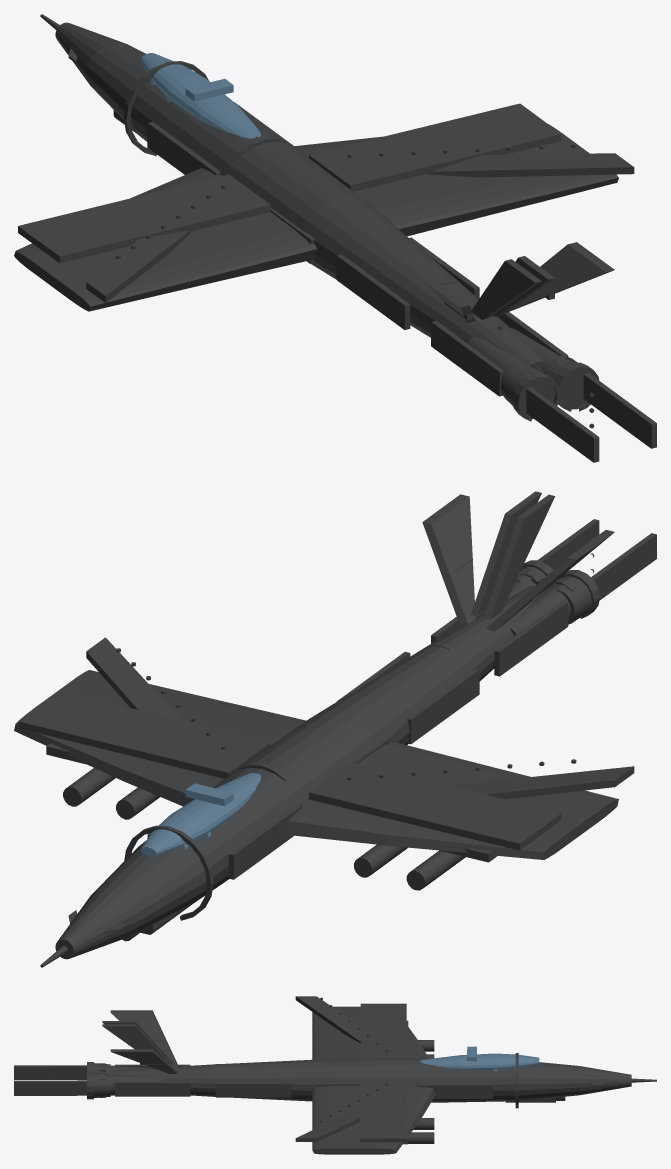
The model's file is strafe_jet.glb.
3 renders of one model, top to bottom at view 1: azimuth 30°, elevation 25°; view 2: azimuth 150°, elevation 25°; view 3: azimuth 270°, elevation 25°, orthographic. The views are drawn at different scales.
Parts seen in each view (by area): view 1: strafe_jet__strafe_jet, strafe_jet__canopy; view 2: strafe_jet__strafe_jet, strafe_jet__canopy; view 3: strafe_jet__strafe_jet, strafe_jet__canopy.
Part boxes in pixels (x1=…): strafe_jet__strafe_jet: x1=14, y1=14, x2=656, y2=462; strafe_jet__canopy: x1=140, y1=53, x2=261, y2=138; strafe_jet__strafe_jet: x1=14, y1=491, x2=656, y2=967; strafe_jet__canopy: x1=140, y1=772, x2=261, y2=856; strafe_jet__strafe_jet: x1=14, y1=996, x2=656, y2=1154; strafe_jet__canopy: x1=420, y1=1046, x2=539, y2=1070.
Size of the model in its own units: 0.8 by 0.216 by 1.53.
